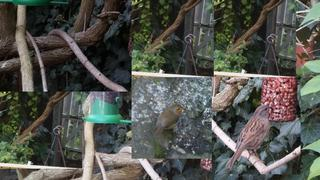dunnock: (225, 104, 274, 169)
robin: (154, 104, 185, 138)
